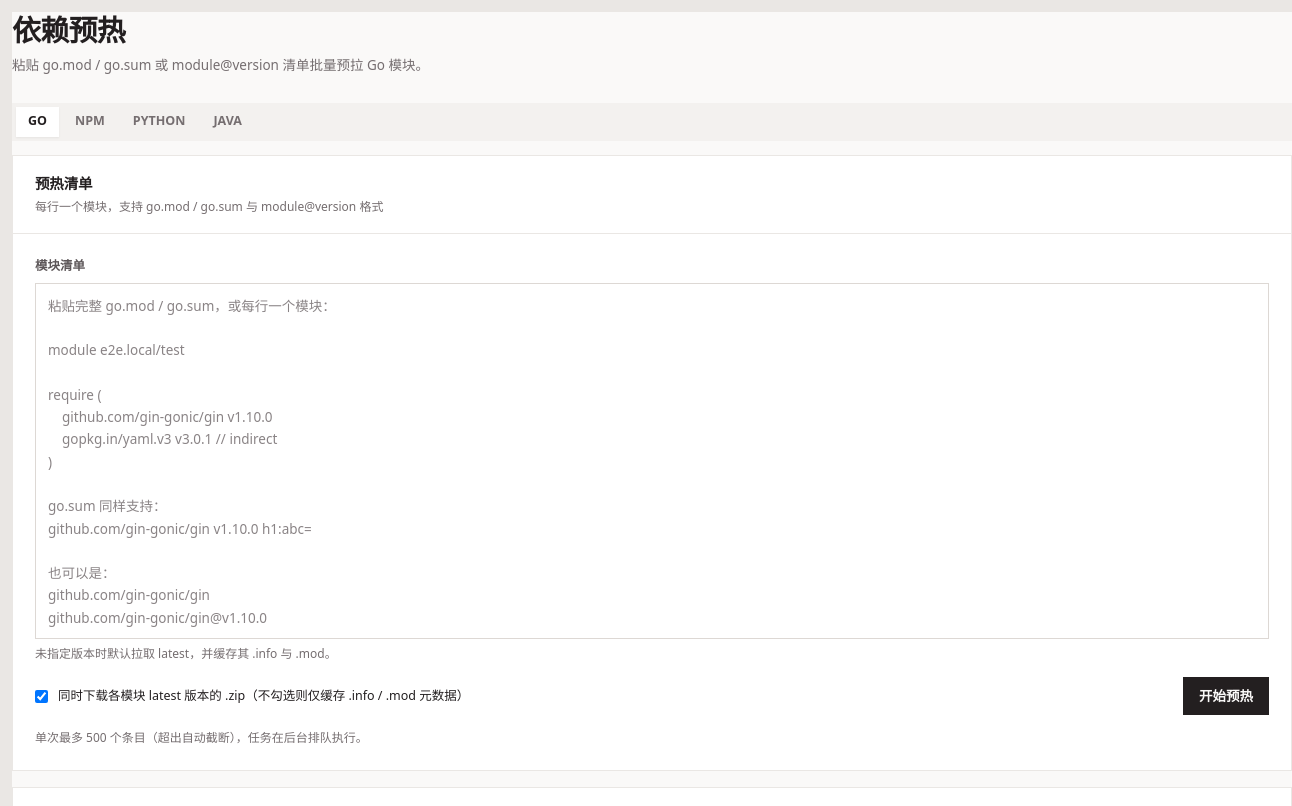
Test case: PreheatView › 切换生态展示各自最近任务，互不干扰
Click the tab "NPM": (90, 122) [63, 106, 117, 136]
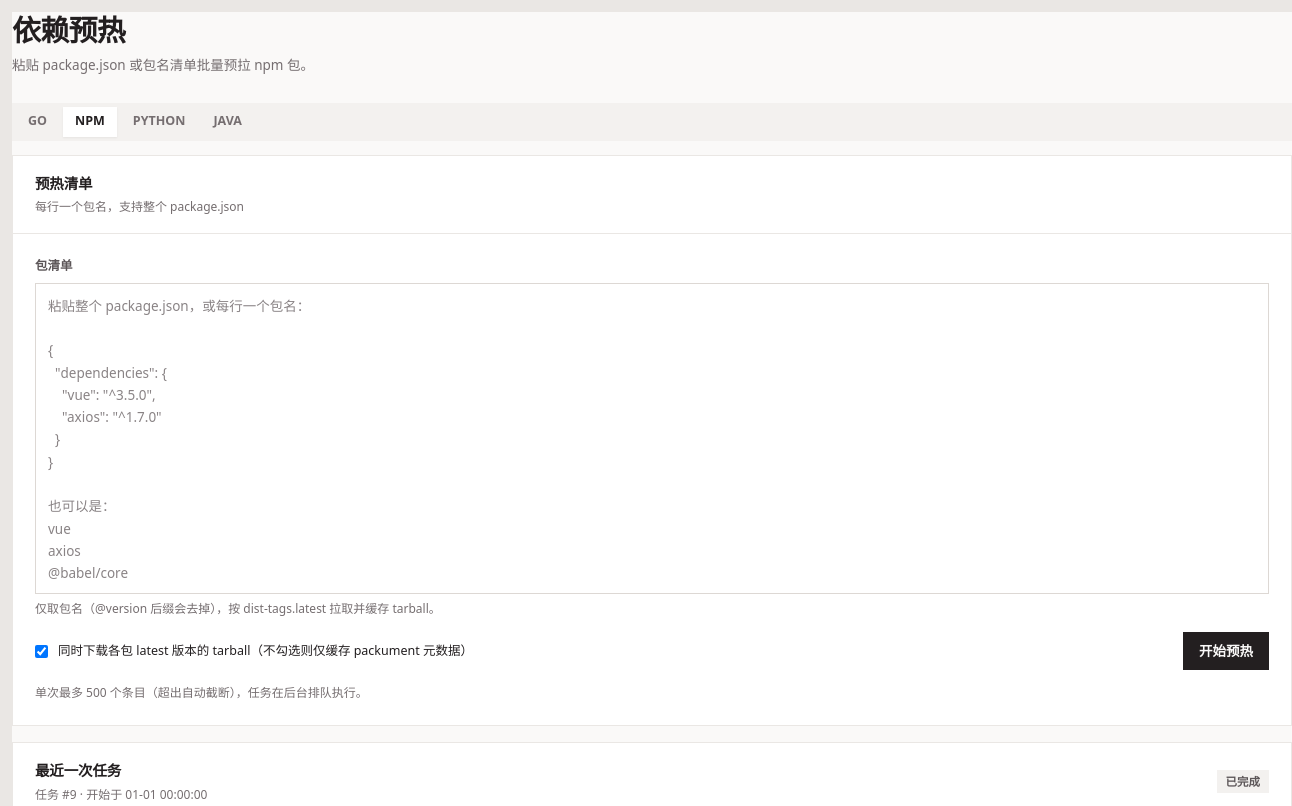
Expected: the text "任务 #9" is shown, [35, 786, 207, 803]
